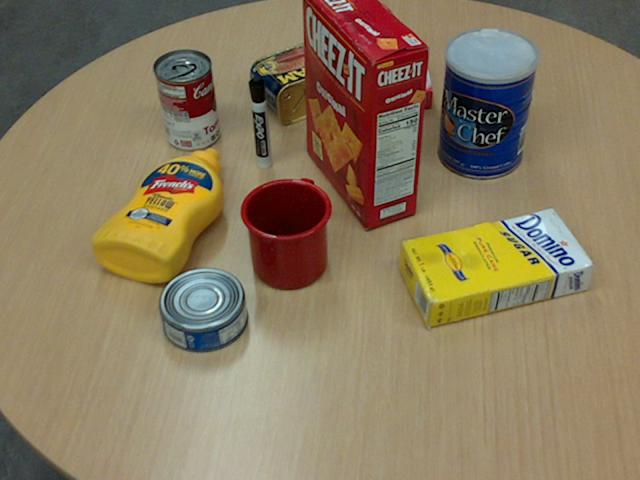cracker_box: (302, 0, 428, 226)
gelatin_box: (370, 53, 431, 109)
large_marker: (248, 76, 269, 169)
master_chef_can: (437, 28, 537, 180)
mug: (238, 178, 331, 289)
mustard_bottle: (90, 147, 223, 281)
potted_meat_can: (249, 43, 347, 123)
sugar_box: (397, 208, 593, 329)
tomato_soup_can: (153, 47, 218, 149)
tuna_fish_can: (157, 268, 247, 352)
